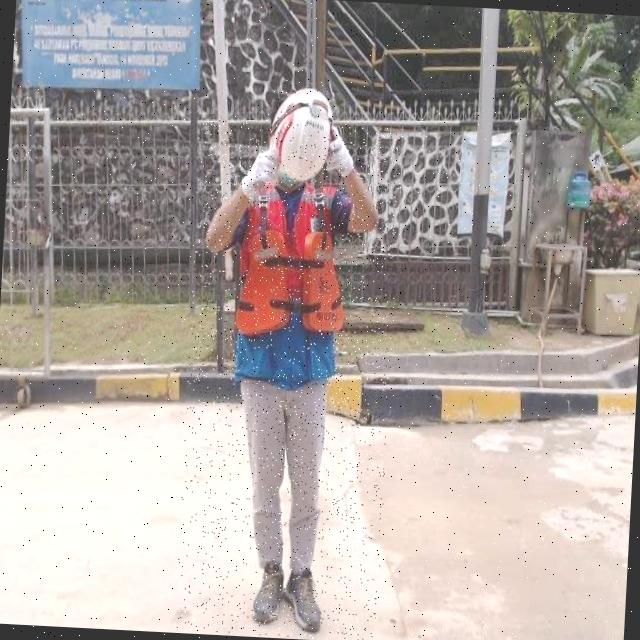boots: (250, 557, 290, 635), (286, 562, 330, 632)
helmet: (266, 77, 336, 199)
vest: (232, 180, 357, 366)
